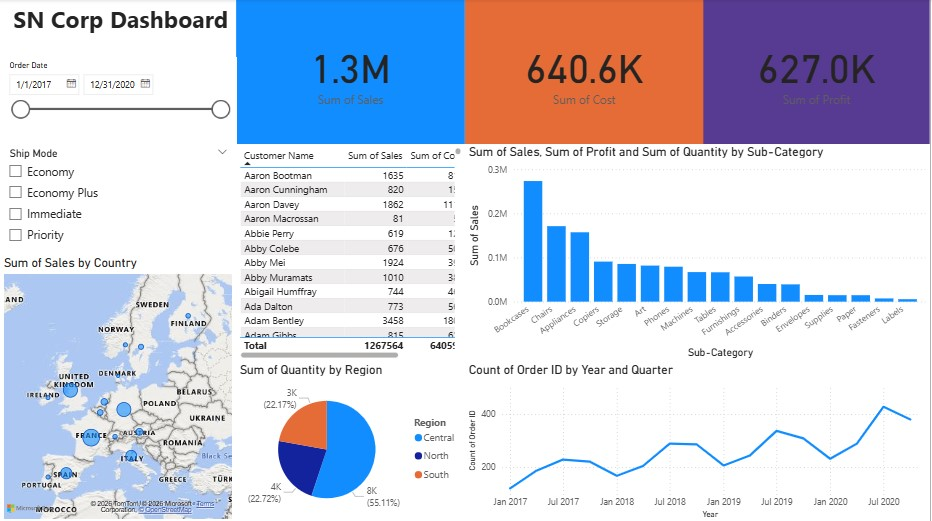

The dashboard page shown, as its layout file describes it:
{"tool":"powerbi","page":{"name":"Page 1","canvas":[1280,720],"ordinal":0},"visuals":[{"type":"card","fields":{"Values":["Sum(List of Orders.Sales)"]},"box":[325,0,315,200],"z":0},{"type":"card","fields":{"Values":["Sum(List of Orders.Profit)"]},"box":[967.6,0,312.4,199.9],"z":1000},{"type":"card","fields":{"Values":["Sum(List of Orders.Cost)"]},"box":[640,0,328.3,200],"z":2000},{"type":"actionButton","box":[0,0,100,40],"z":3000},{"type":"tableEx","fields":{"Values":["List of Orders.Customer Name","Sum(List of Orders.Sales)","Sum(List of Orders.Cost)","Sum(List of Orders.Profit)"]},"box":[325,200,315,300],"z":4000},{"type":"clusteredColumnChart","fields":{"Y":["Sum(List of Orders.Sales)"],"Category":["List of Orders.Sub-Category"]},"box":[640,200,640,300],"z":5000},{"type":"lineChart","fields":{"Y":["CountNonNull(List of Orders.Order ID)"],"Category":["List of Orders.Order Date.Variation.Date Hierarchy.Year","List of Orders.Order Date.Variation.Date Hierarchy.Quarter"]},"box":[640,500,640,220],"z":6000},{"type":"pieChart","fields":{"Y":["Sum(List of Orders.Quantity)"],"Category":["List of Orders.Region"]},"box":[325,500,315,220],"z":7000},{"type":"map","fields":{"Category":["List of Orders.Country"],"Size":["Sum(List of Orders.Sales)"]},"box":[0,351.7,325,368.3],"z":8000},{"type":"textbox","box":[0,0,325,80],"z":9000},{"type":"slicer","fields":{"Values":["List of Orders.Ship Mode"]},"box":[0,200,325,150],"z":10000},{"type":"slicer","fields":{"Values":["List of Orders.Order Date"]},"box":[0,80,325,120],"z":11000}]}

Visuals, with their boxes in screenshot pixels (x1, y1, x2, y2), scaled from the page's 1280x720 canvas onto the 932x521 screenshot:
card - Sum(List of Orders.Sales): [237, 0, 466, 145]
card - Sum(List of Orders.Profit): [705, 0, 931, 145]
card - Sum(List of Orders.Cost): [466, 0, 705, 145]
actionButton: [0, 0, 73, 29]
tableEx - List of Orders.Customer Name x Sum(List of Orders.Sales): [237, 145, 466, 362]
clusteredColumnChart - Sum(List of Orders.Sales) x List of Orders.Sub-Category: [466, 145, 931, 362]
lineChart - CountNonNull(List of Orders.Order ID) x List of Orders.Order Date.Variation.Date Hierarchy.Year: [466, 362, 931, 520]
pieChart - Sum(List of Orders.Quantity) x List of Orders.Region: [237, 362, 466, 520]
map - List of Orders.Country x Sum(List of Orders.Sales): [0, 254, 237, 520]
textbox: [0, 0, 237, 58]
slicer - List of Orders.Ship Mode: [0, 145, 237, 253]
slicer - List of Orders.Order Date: [0, 58, 237, 145]
